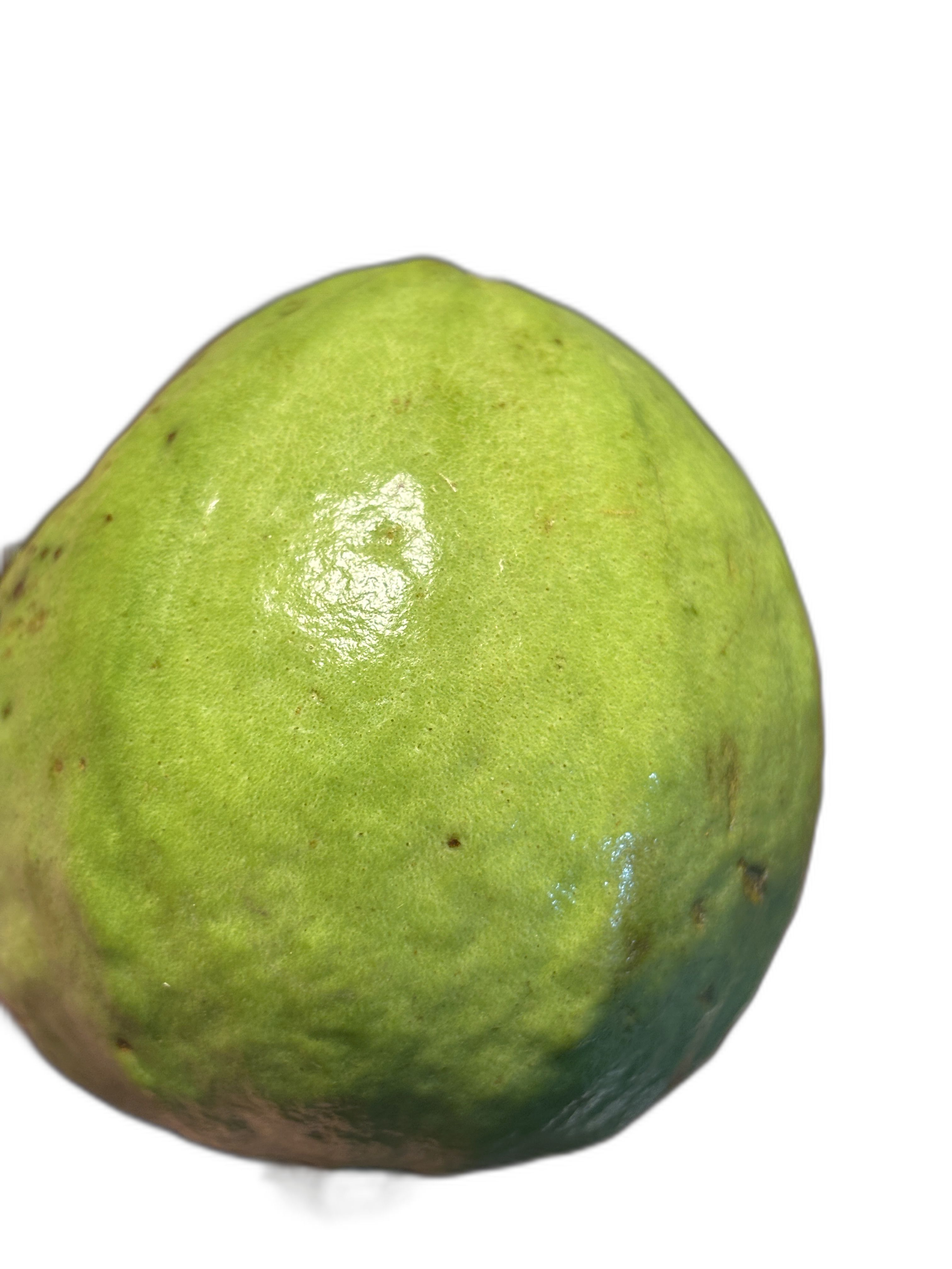guava: (70, 185, 715, 1203)
